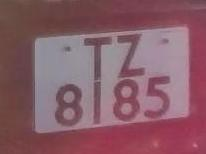1: (86, 76, 110, 129)
5: (141, 71, 174, 120)
8: (48, 79, 89, 133), (109, 75, 144, 126)
T: (80, 34, 116, 82)
Z: (112, 30, 151, 82)
